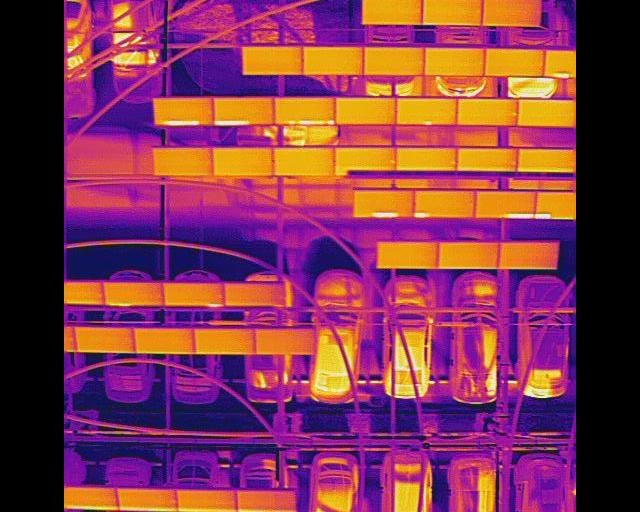Cell: (397, 97, 456, 125)
No-Anomaly: (209, 148, 275, 176), (424, 47, 484, 76), (241, 46, 303, 74), (435, 241, 499, 268), (303, 47, 364, 75), (498, 241, 559, 269), (189, 329, 257, 354), (335, 96, 395, 124), (271, 148, 335, 174), (378, 241, 437, 269), (364, 47, 425, 74), (73, 326, 133, 353), (152, 148, 212, 175), (457, 99, 518, 125), (484, 50, 544, 76), (481, 0, 541, 26), (334, 146, 396, 171), (253, 329, 317, 353), (397, 146, 458, 171), (423, 0, 483, 25), (517, 147, 576, 172), (234, 489, 298, 512), (114, 488, 177, 511), (132, 330, 194, 353), (226, 282, 285, 306), (362, 0, 423, 23), (457, 147, 518, 170), (102, 283, 165, 305), (174, 490, 238, 511), (163, 283, 224, 305), (64, 488, 121, 510)
Unclassified: (413, 188, 475, 217), (475, 189, 535, 217), (154, 98, 214, 126), (211, 97, 273, 124), (354, 189, 413, 217), (275, 98, 335, 124)
